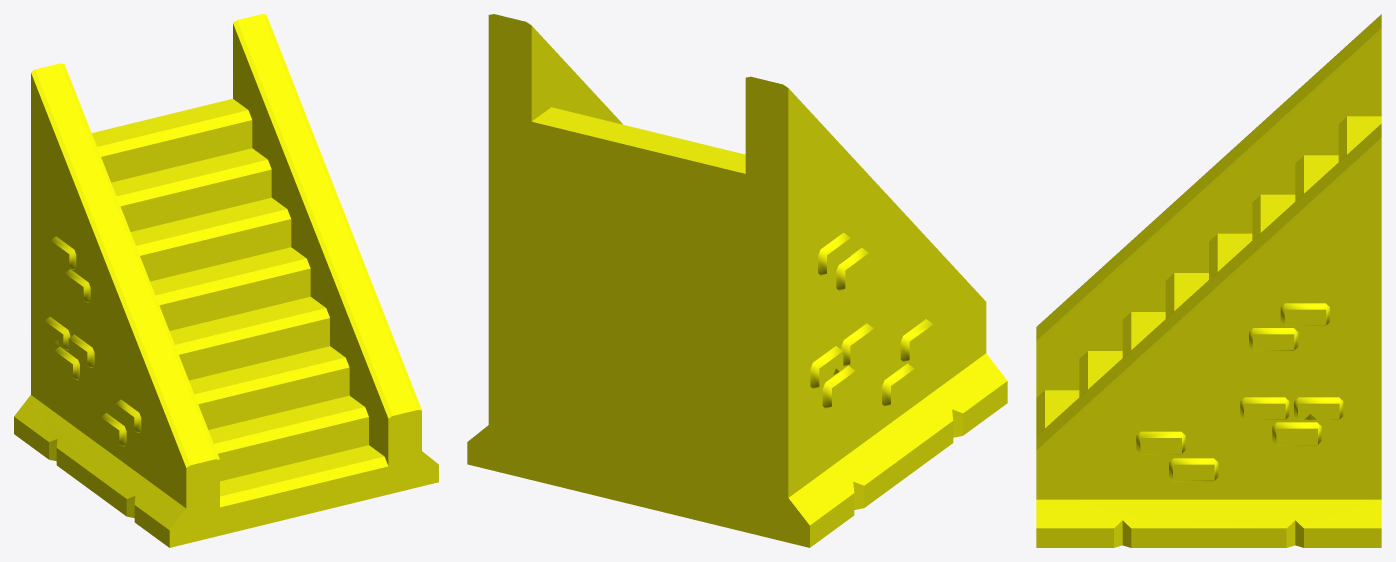
The model's file is kaykit-stairs-narrow.glb.
The picture shows the model from 3 angles, left to right: view 1: azimuth 30°, elevation 25°; view 2: azimuth 150°, elevation 25°; view 3: azimuth 270°, elevation 25°; orthographic projection. The views are drawn at different scales.
Parts seen in each view (by area): view 1: stairs_narrow; view 2: stairs_narrow; view 3: stairs_narrow.
Boxes of the visible parts, x1,y1,x2,y2 form: stairs_narrow: (14, 14, 438, 547); stairs_narrow: (467, 14, 1007, 547); stairs_narrow: (1036, 14, 1381, 547).
Size of the model in its own units: 4 by 5.1 by 4.
